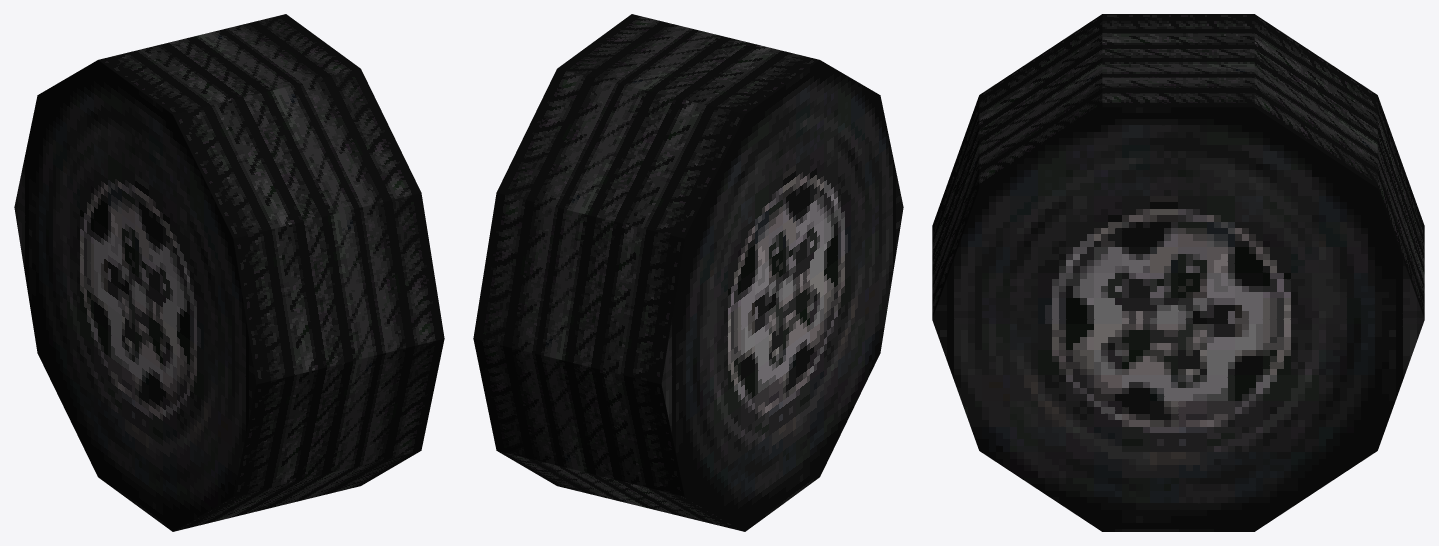
File: Offroad_Wheel.fbx
3 renders of one model, left to right at view 1: azimuth 30°, elevation 25°; view 2: azimuth 150°, elevation 25°; view 3: azimuth 270°, elevation 25°, orthographic.
Parts seen in each view (by area): view 1: wheel_offroad_l1; view 2: wheel_offroad_l1; view 3: wheel_offroad_l1.
Boxes of the visible parts, bbox=[...] form: wheel_offroad_l1: bbox=[14, 14, 444, 531]; wheel_offroad_l1: bbox=[473, 14, 903, 531]; wheel_offroad_l1: bbox=[932, 14, 1424, 531].
Bounding box in the file's own units: 45.4 × 96.23 × 101.
2 materials, 2 textured.
